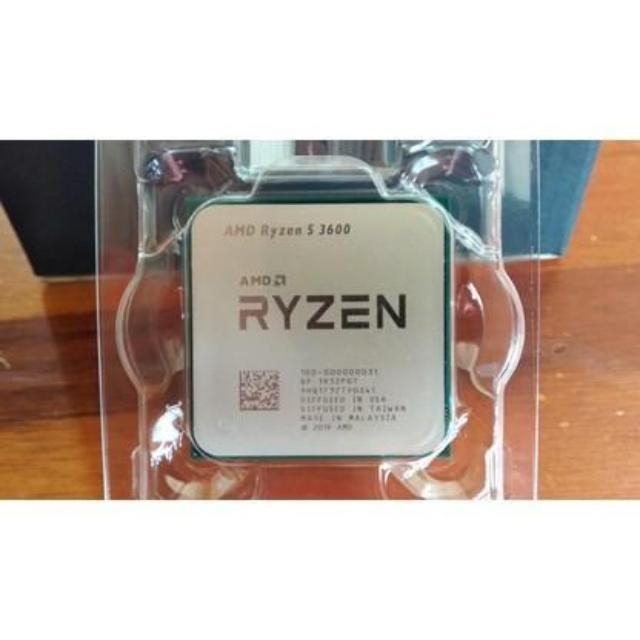CPU: (190, 203, 452, 460)
